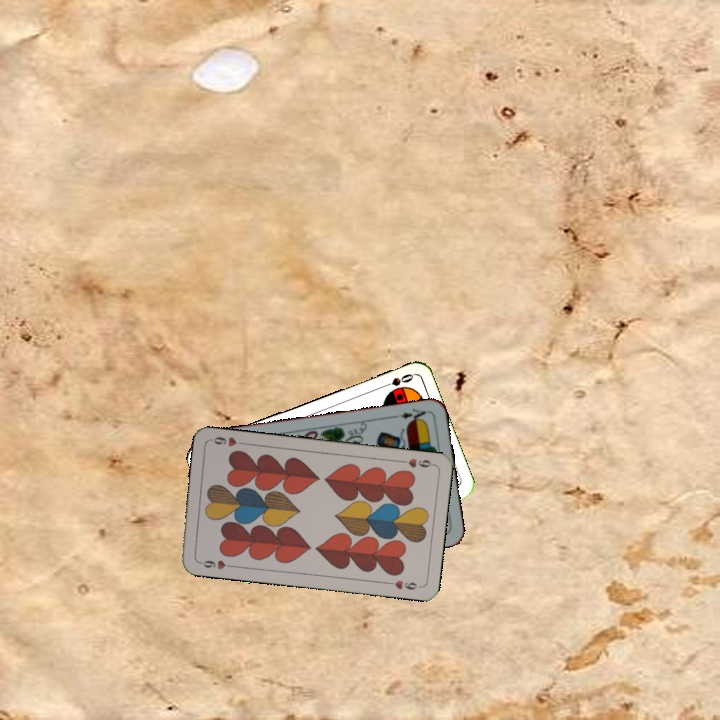EA: (390, 404, 430, 425)
H9: (396, 454, 436, 470), (195, 556, 235, 572)
SO: (377, 370, 416, 391)
